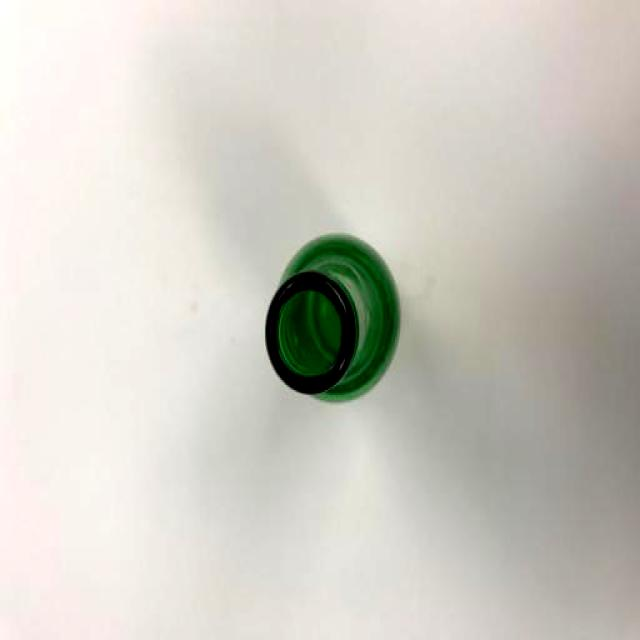Glass: (262, 227, 404, 415)
